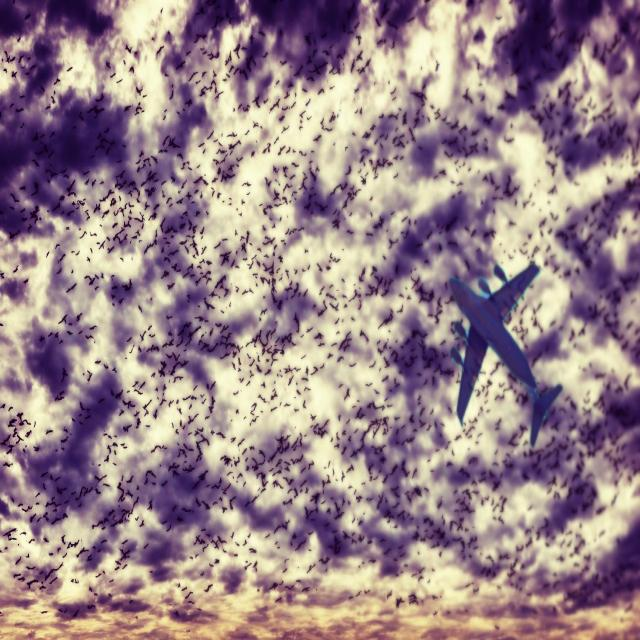airplane: (447, 260, 563, 448)
